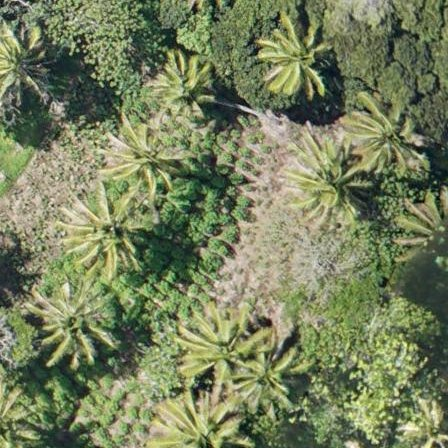palm_tree: (278, 136, 368, 226), (66, 195, 152, 277), (252, 15, 334, 99), (346, 95, 424, 175), (35, 284, 114, 361), (181, 313, 254, 387), (147, 396, 245, 448), (109, 123, 178, 187), (237, 345, 300, 414), (398, 197, 448, 267), (153, 59, 209, 114), (1, 27, 45, 93)
